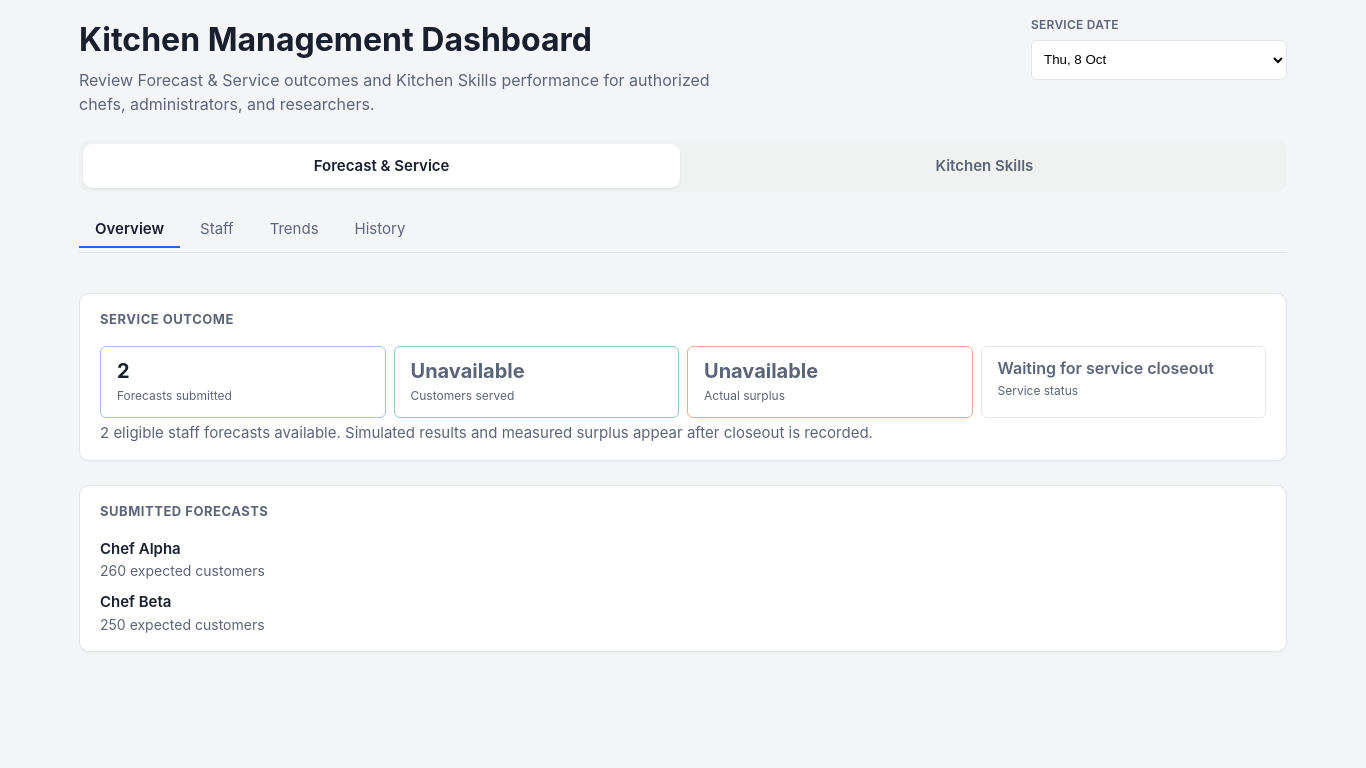
Test: unified Kitchen Management Dashboard › shows Kitchen Skills unavailable when trainer collection is missing
Click the tab with test id "kitchen-mgmt-area-tab-skills": (984, 166) 686,144 -> 1283,188
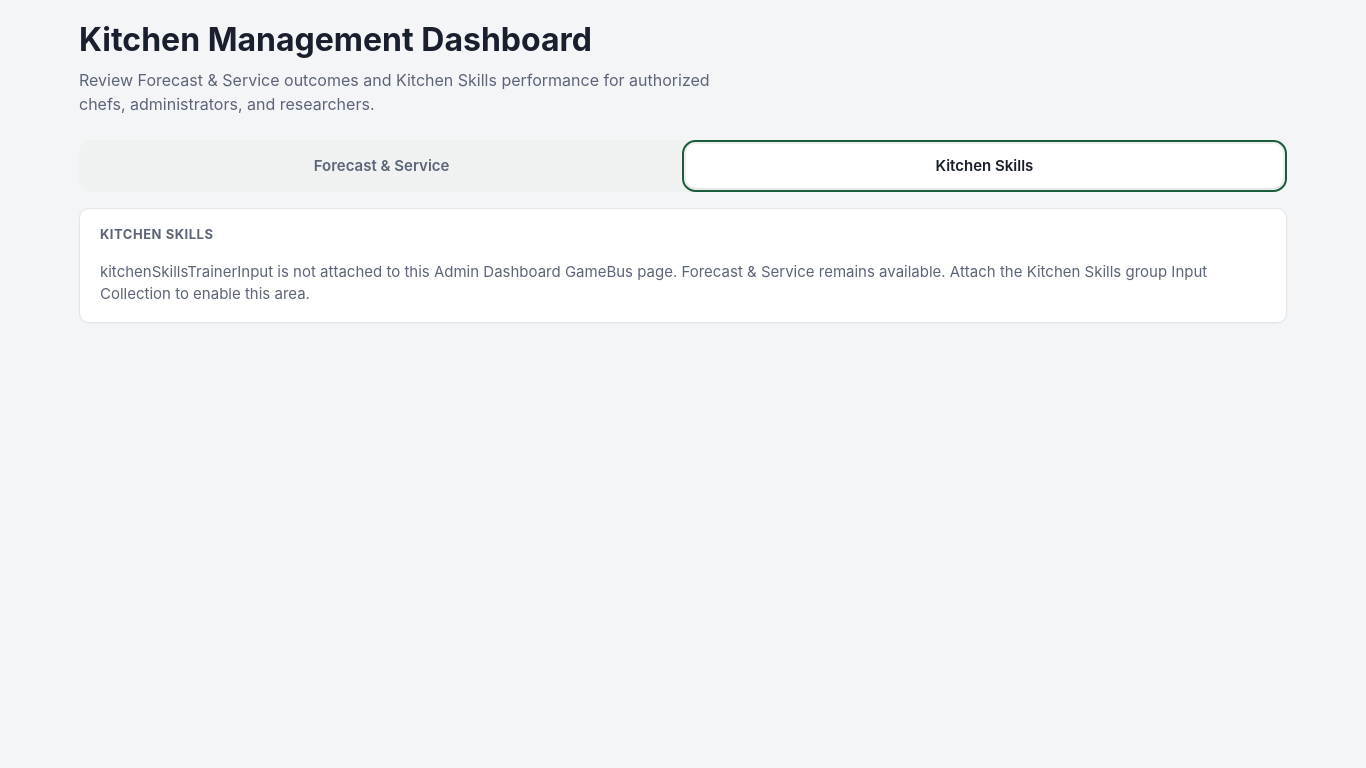
expect the element with test id "kitchen-mgmt-skills-unavailable" is shown: met, box 79,208 -> 1287,322
